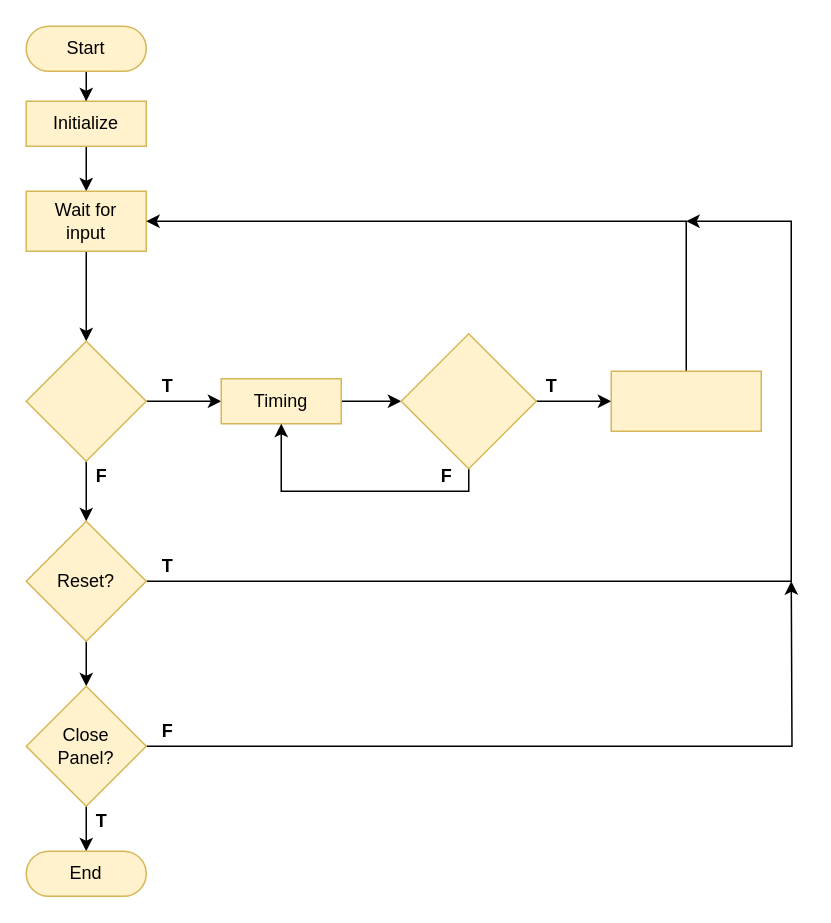
Image size: 831x923. Some labels were removed from this diagram. The centre of each missing label's shape, as x and y in pixels:
Computer's turn: point 685,400
Hand shown or time?: point 468,400
Start?: point 85,400
